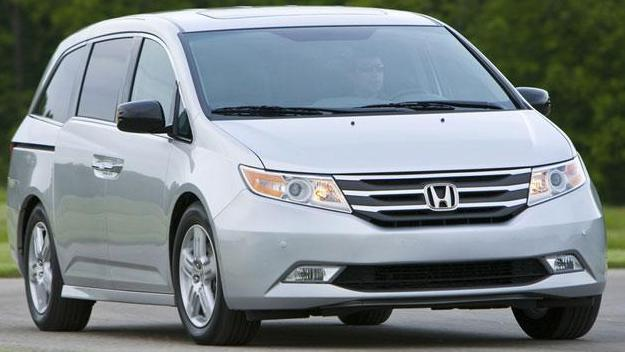front_view: (232, 156, 608, 313)
headlight: (215, 161, 375, 231)
side_glass: (66, 38, 199, 148)
